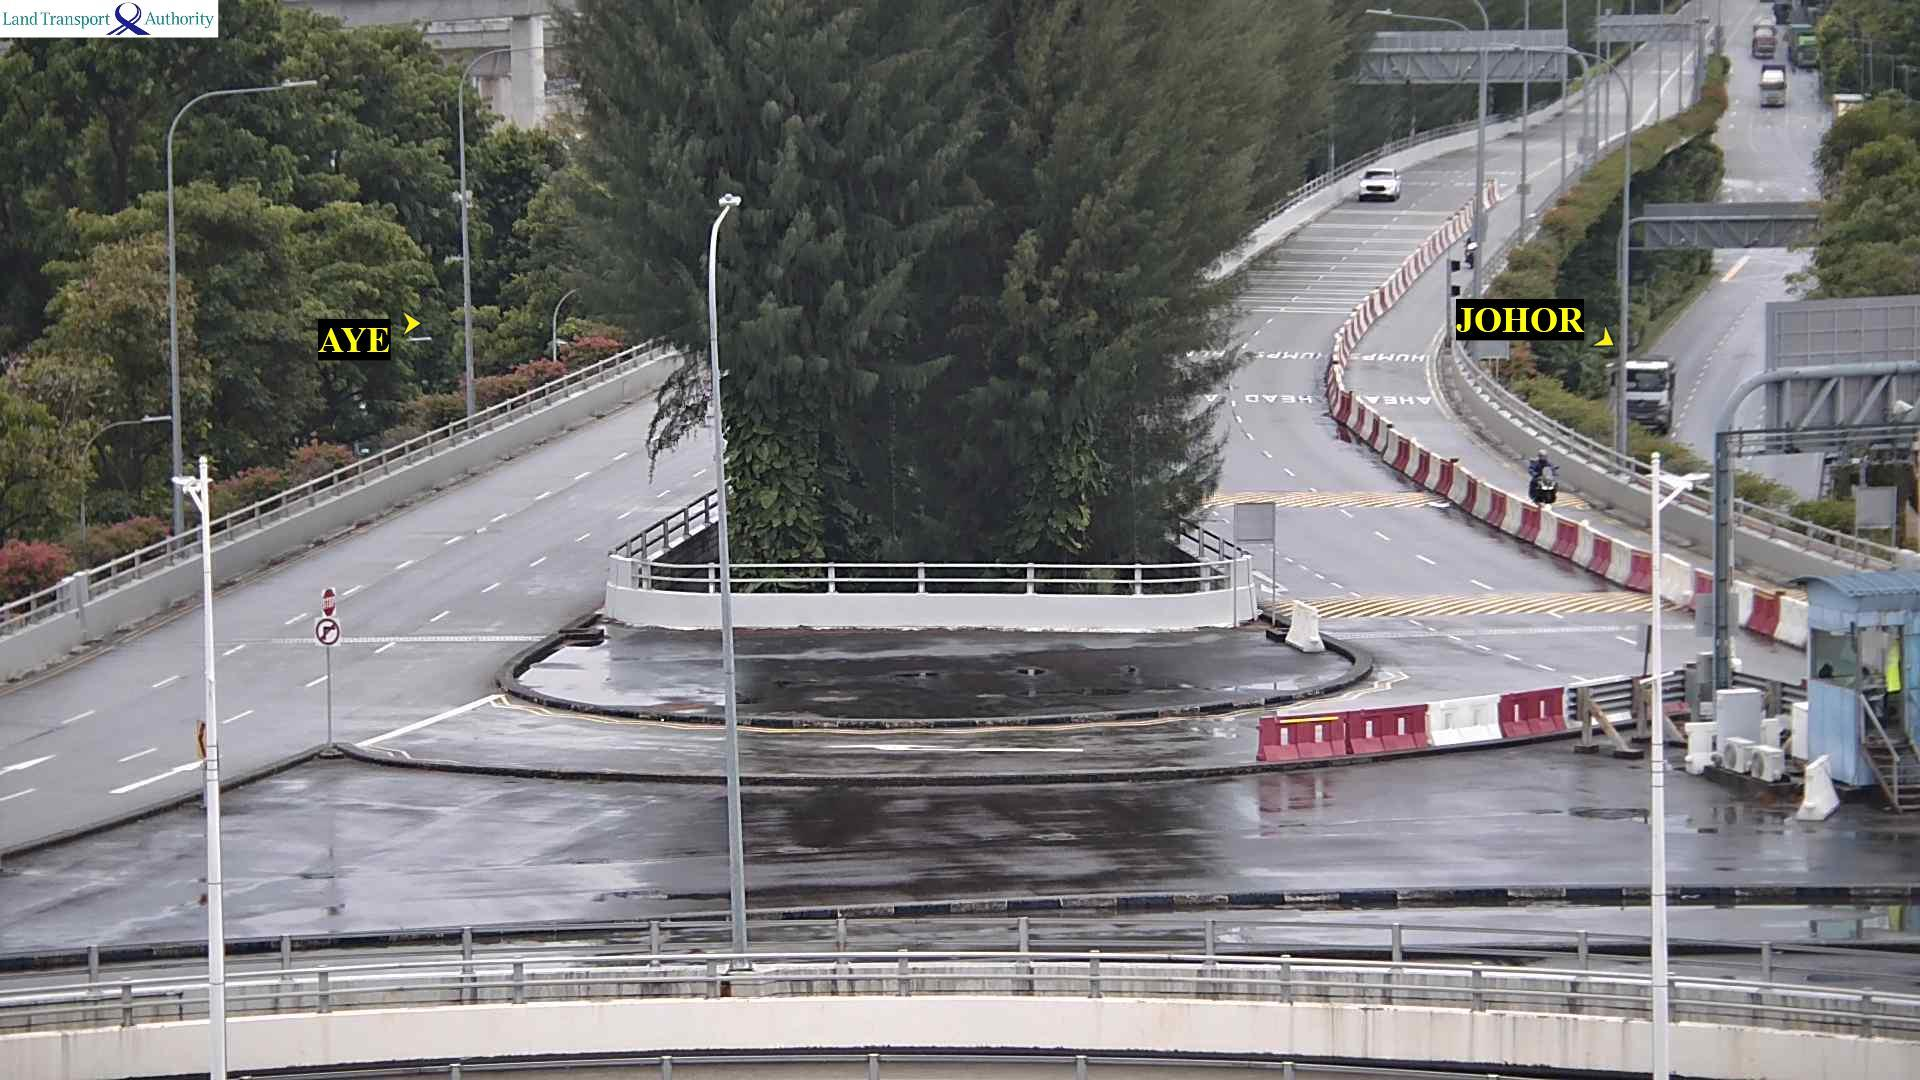vehicle-secondlink-johor: (1535, 452, 1568, 506), (1360, 170, 1404, 204)
